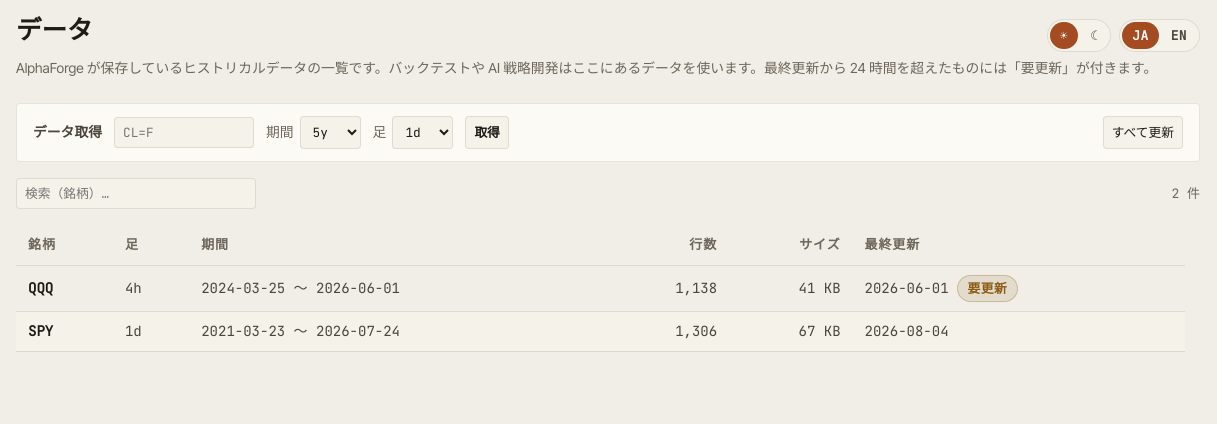
DataPage 取得・更新ジョブ (issue #485) › ジョブ作成が 403 で失敗した場合も意味のあるエラーを表示する (issue #507)
The width and height of the screenshot is (1217, 424).
Expected: the text "SPY" is shown, 16,311 -> 113,351
Click the button "すべて更新".
click(1143, 133)  # box 1103,116 -> 1183,149
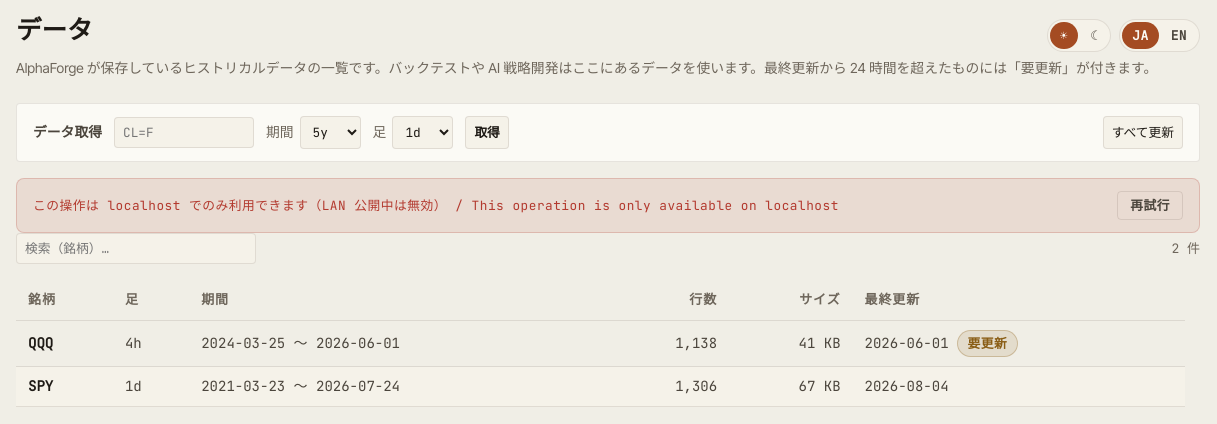
Expected: the text "localhost" is shown, 33,197 -> 839,214
